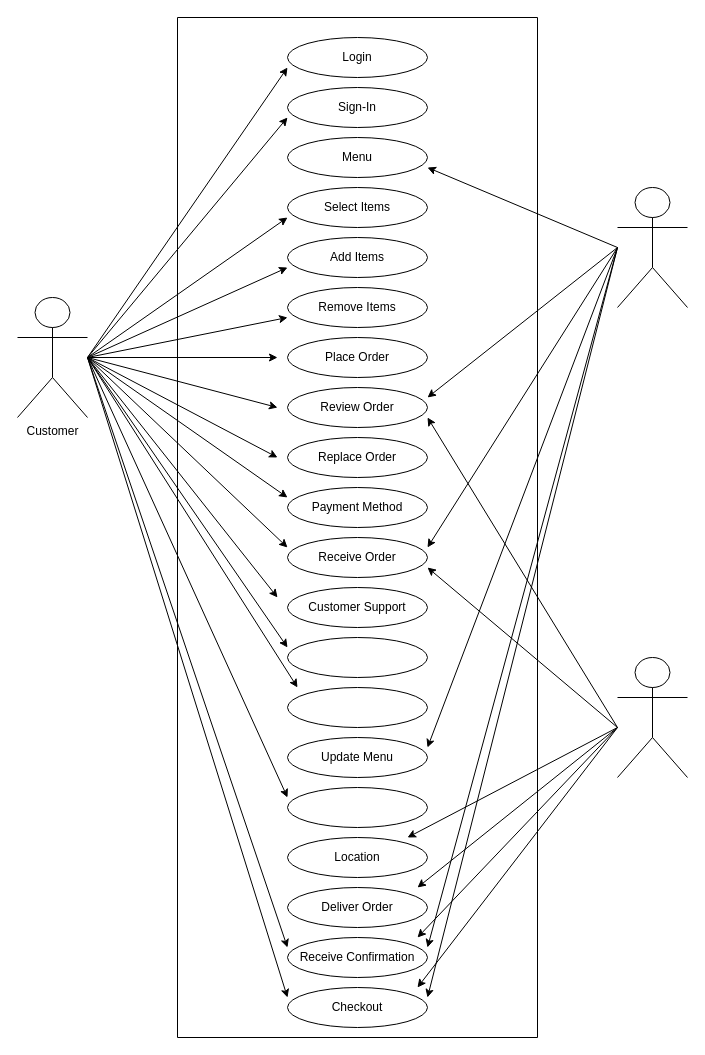
Image size: 705x1055. Some labels were removed from this diagram. Here are the shapes that lost their labels. From the top down, the centre of each, then its label:
pixel 652 247: Admin
pixel 357 657: Offers
pixel 357 707: Rating
pixel 652 717: Delivery Boy
pixel 357 807: Order Tracking
